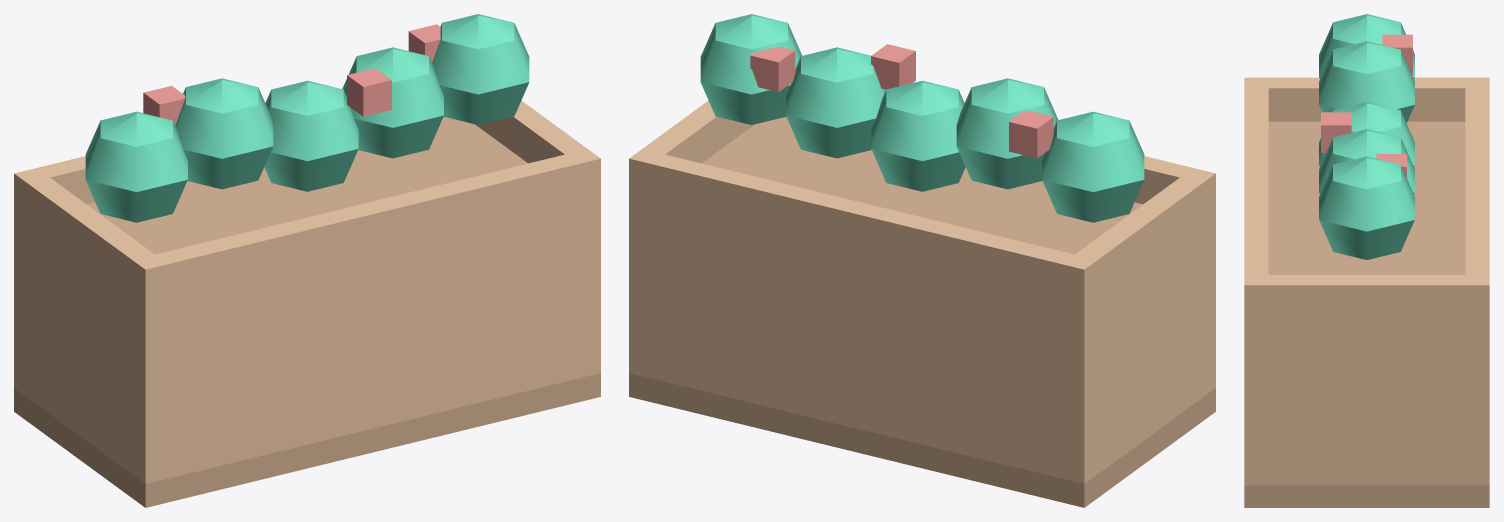
File: planterTrough.glb
The picture shows the model from 3 angles, left to right: view 1: azimuth 30°, elevation 25°; view 2: azimuth 150°, elevation 25°; view 3: azimuth 270°, elevation 25°; orthographic projection. The views are drawn at different scales.
Visible parts, largest first — view 1: planterTrough; view 2: planterTrough; view 3: planterTrough.
Part boxes in pixels (x1=…): planterTrough: x1=14, y1=14, x2=600, y2=507; planterTrough: x1=629, y1=14, x2=1215, y2=507; planterTrough: x1=1244, y1=14, x2=1489, y2=507.
Size of the model in its own units: 0.4 by 0.291 by 0.2.
